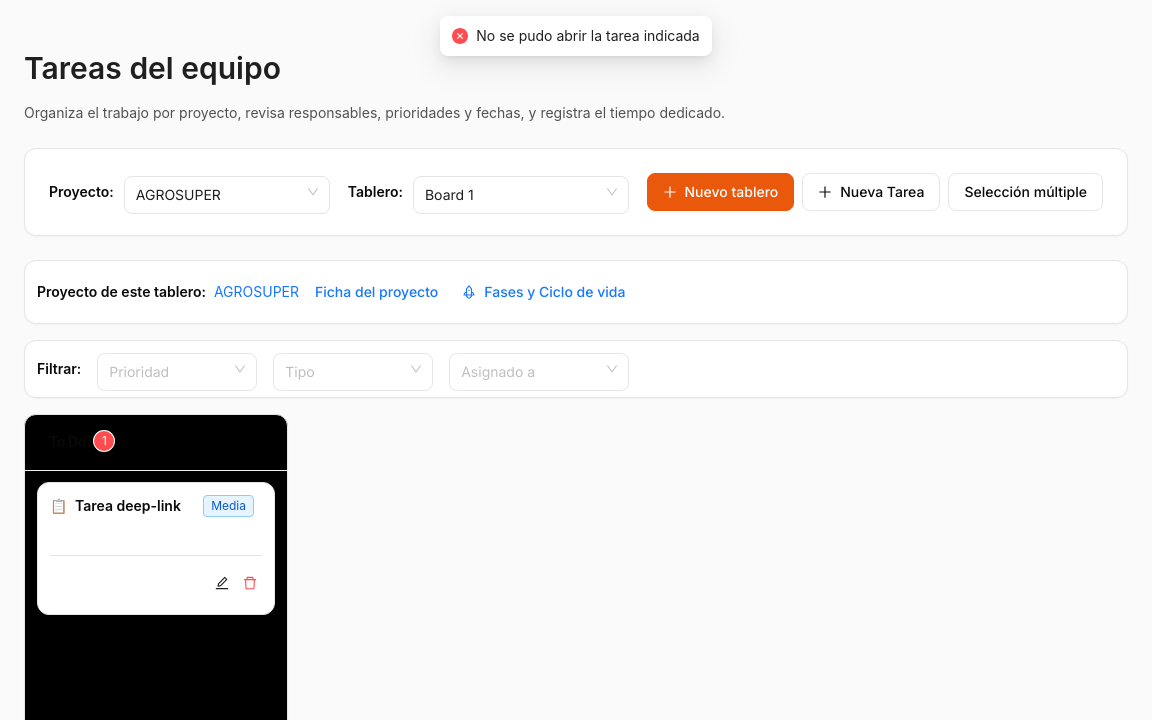
Test: TasksPage - deep link ?taskId= › no muestra el checklist de subtareas en el modal de "Nueva Tarea" (crear, no editar)
The image size is (1152, 720).
What coordinates should you click on to do the following:
click the button "Nueva Tarea"
I would click on:
 (871, 192)
Its box is [802,173,940,211].
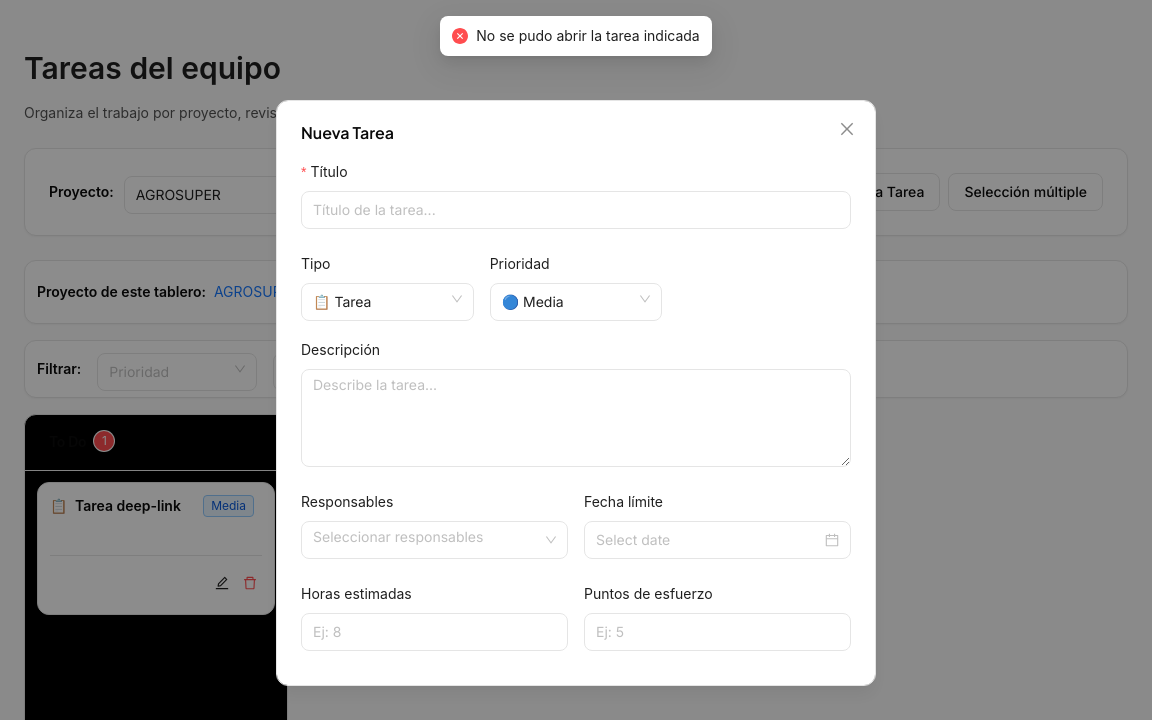
Check: the text "Título" is shown, box [301,161,362,183]
